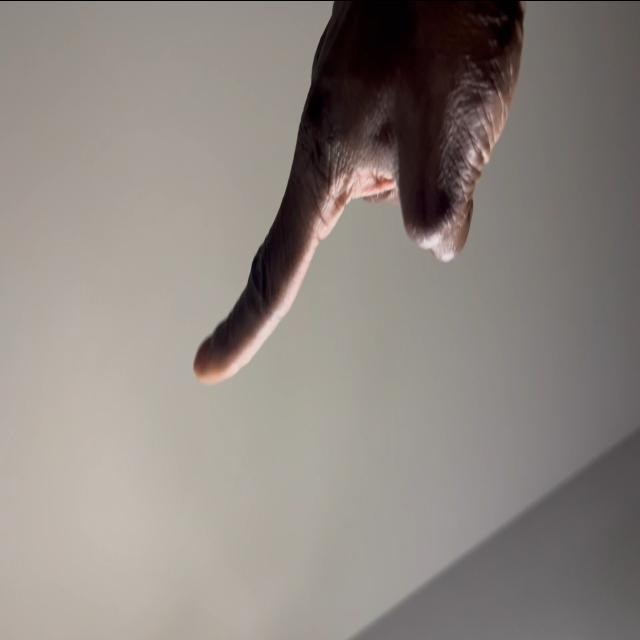Scissors: (192, 0, 527, 380)
